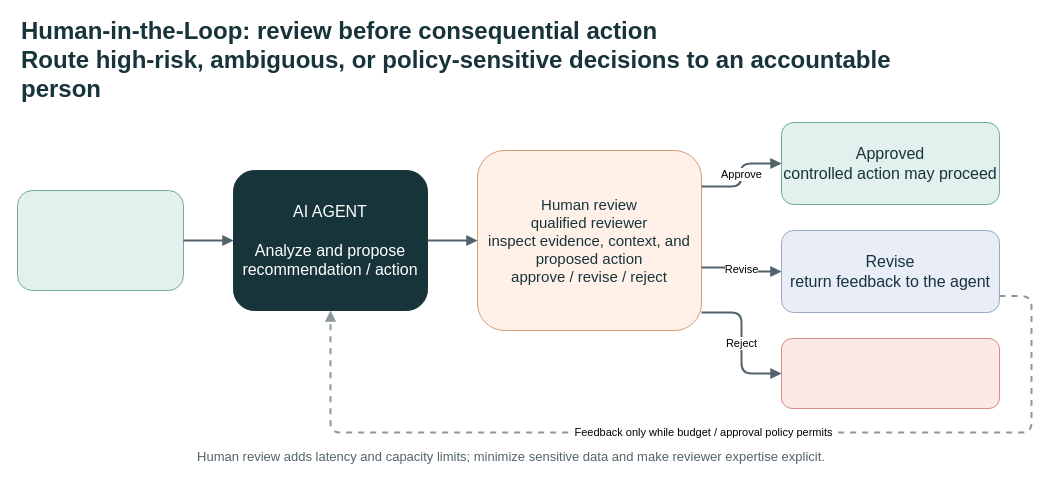
This 1058x489 diagram has some shape labels left out. The shapes that lost their labels are listed below. From the top down, each one's centre as x and y in pixels, then its label:
the point at 100,240: Request context + goal
the point at 890,373: Reject / stop do not execute the action
